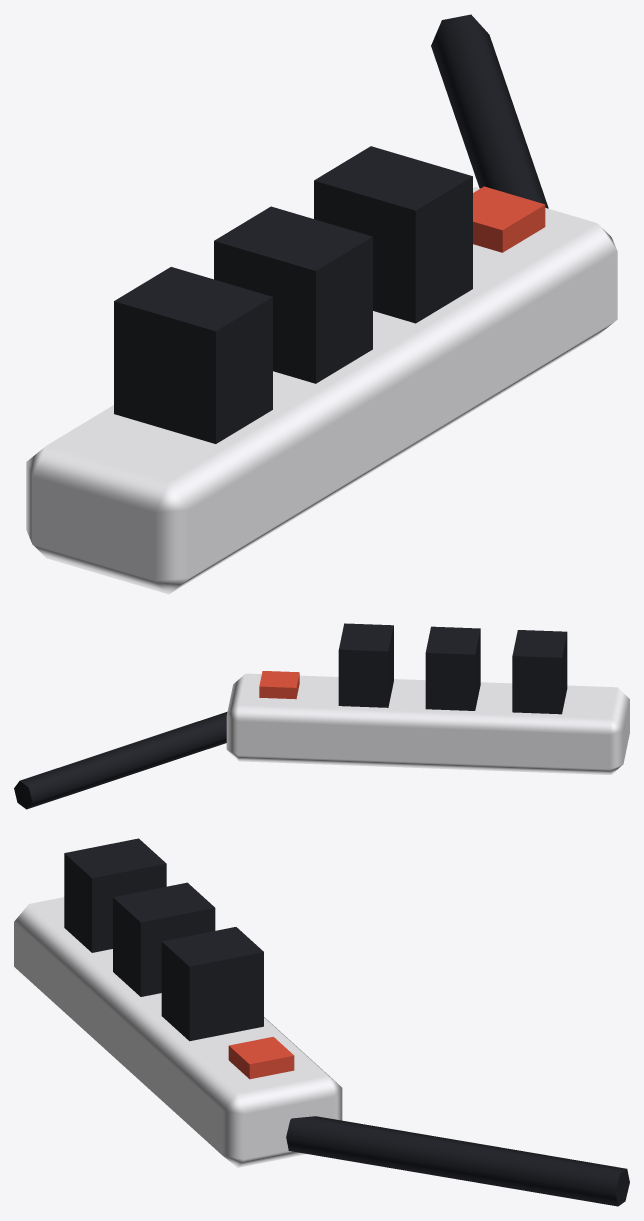
The model's file is station_intake_ausstattung_1_0.glb.
3 renders of one model, top to bottom at view 1: azimuth 30°, elevation 25°; view 2: azimuth 150°, elevation 25°; view 3: azimuth 270°, elevation 25°, orthographic. The views are drawn at different scales.
Parts seen in each view (by area): view 1: station_intake_ausstattung_1_0; view 2: station_intake_ausstattung_1_0; view 3: station_intake_ausstattung_1_0.
Boxes of the visible parts, x1,y1,x2,y2 form: station_intake_ausstattung_1_0: (26,14,617,594); station_intake_ausstattung_1_0: (14,623,629,809); station_intake_ausstattung_1_0: (14,838,629,1206).
Size of the model in its own units: 0.3887 by 0.1 by 0.3741.
